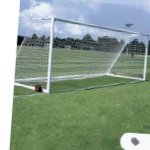goals: (14, 15, 150, 95)
